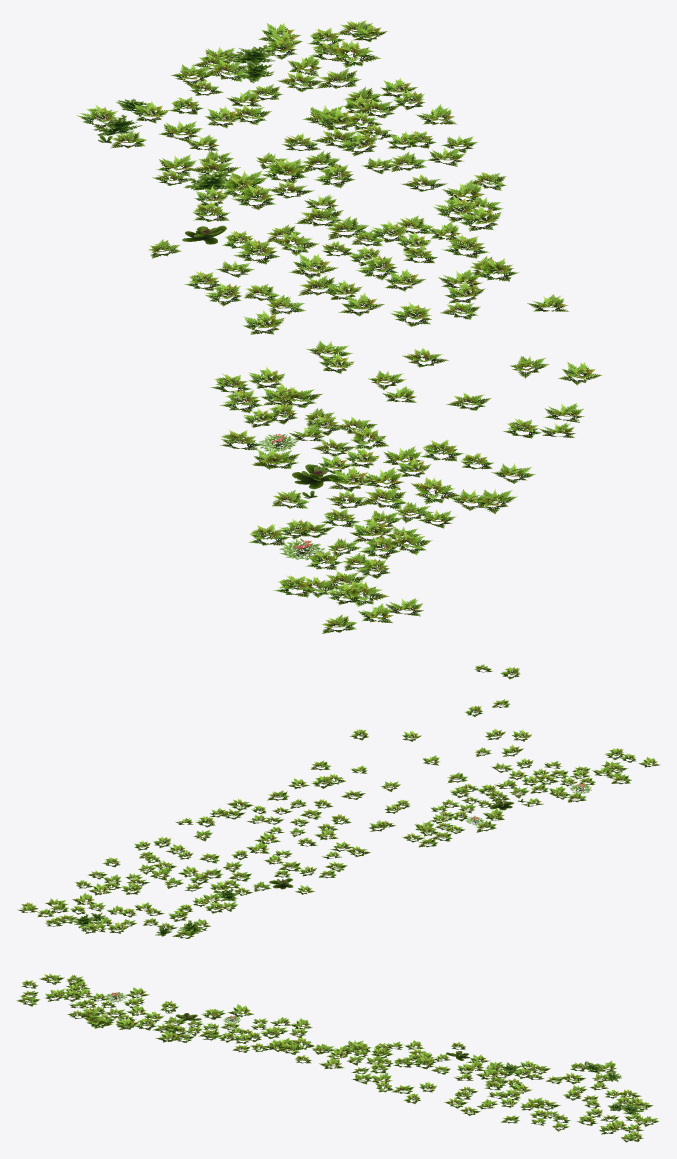
The model's file is Ferns_12.fbx.
3 renders of one model, top to bottom at view 1: azimuth 30°, elevation 25°; view 2: azimuth 150°, elevation 25°; view 3: azimuth 270°, elevation 25°, orthographic. The views are drawn at different scales.
Visible parts, largest first — view 1: Ferns_12; view 2: Ferns_12; view 3: Ferns_12.
Part boxes in pixels (bbox=[...]): Ferns_12: bbox=[76, 20, 602, 633]; Ferns_12: bbox=[17, 664, 660, 938]; Ferns_12: bbox=[16, 973, 659, 1142].
Bounding box in the file's own units: 7145 × 1657 × 11912.
